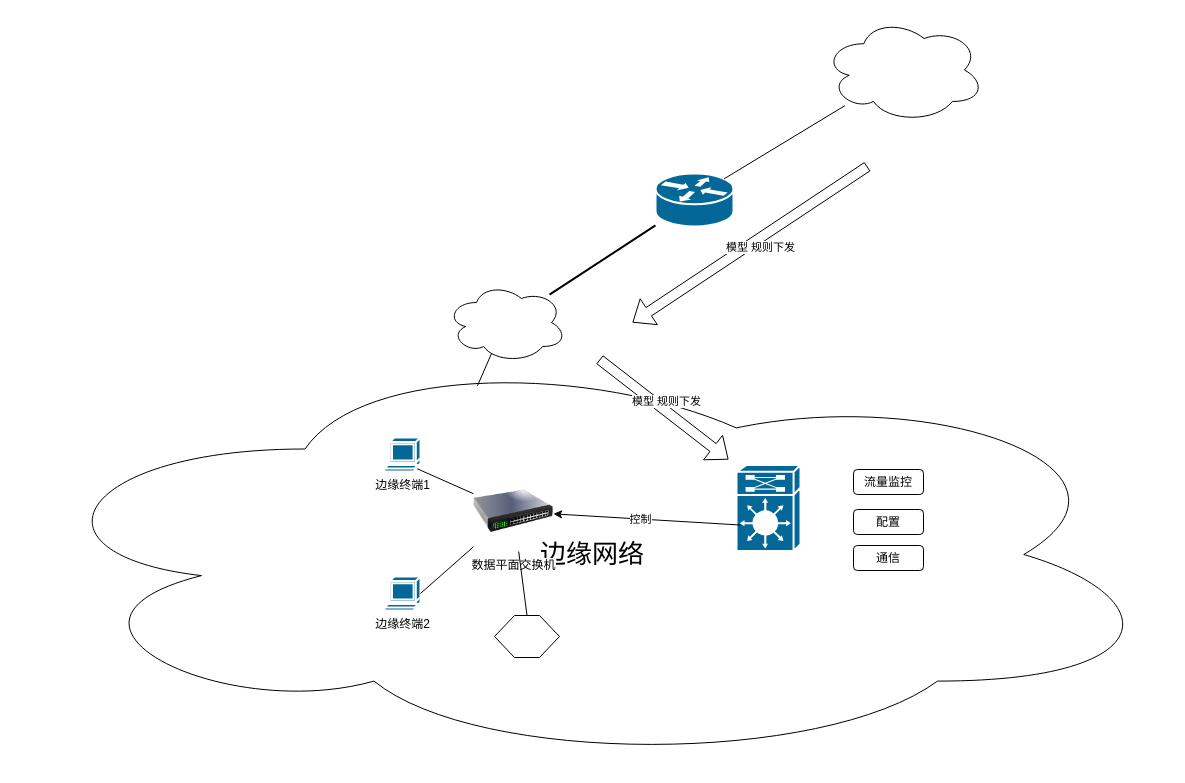
This 1185x783 diagram has some shape labels left out. Here are the shapes that lost their labels. From the top down, the centre of each, then its label:
At point 903,69: "数据中心".
At point 506,322: "LAN".
At point 768,508: "控制平面".
At point 527,636: "传感器".
